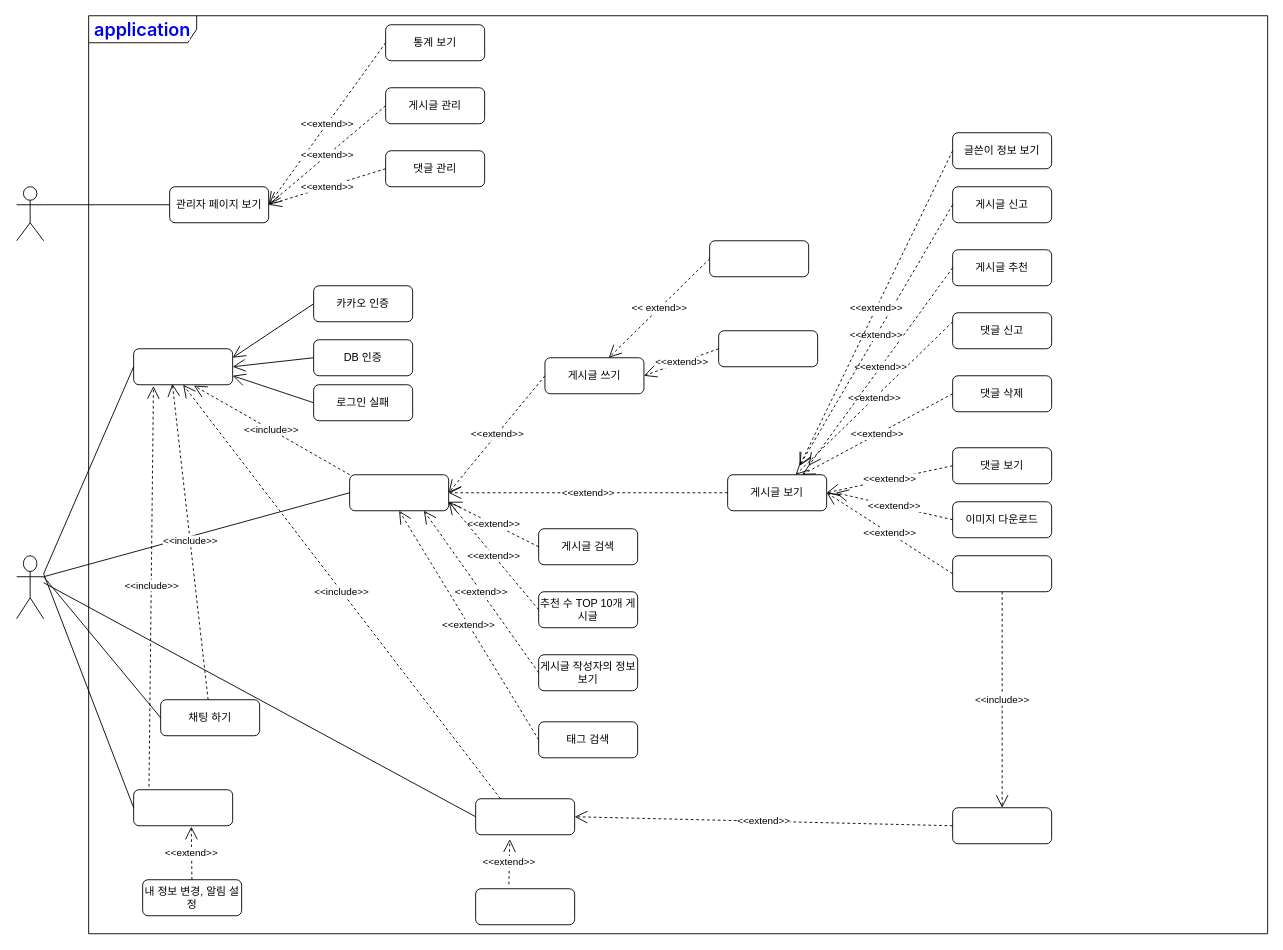
This 1283x950 diagram has some shape labels left out. The centre of each missing label's shape, as x and y in pixels:
게시판 보기: pixel 399 492
관리자: pixel 30 213
내 정보 보기: pixel 183 807
댓글 쓰기: pixel 1002 573
발생한 알람으로 이동: pixel 525 906
알림: pixel 1002 825
알림 보기: pixel 525 816
이미지 첨부: pixel 759 258
이용자: pixel 30 587
태그 등록: pixel 768 348
회원 로그인: pixel 183 366
